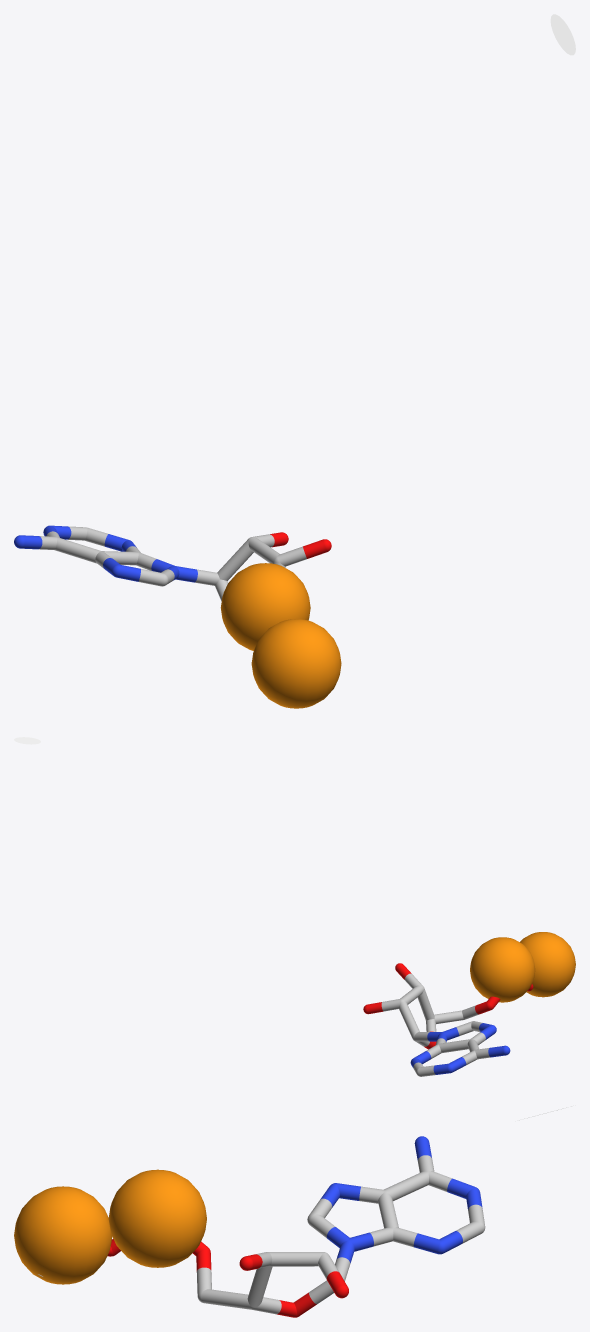
File: ADP.fbx
3 renders of one model, top to bottom at view 1: azimuth 30°, elevation 25°; view 2: azimuth 150°, elevation 25°; view 3: azimuth 270°, elevation 25°, orthographic. The views are drawn at different scales.
Visible parts, largest first — view 1: Sphere, Sphere_2; view 2: Sphere_2, Sphere; view 3: Sphere_2, Sphere, Cylinder_13, Cylinder_8, Cylinder_21, Cylinder_10, Cylinder_22, Cylinder_46, Cylinder_7, Cylinder_11, Cylinder_27, Cylinder_26 (+12 smaller).
Part boxes in pixels (left/top/right/bottom): Sphere: left=251, top=619, right=341, bottom=708; Sphere_2: left=220, top=563, right=310, bottom=650; Sphere_2: left=470, top=937, right=535, bottom=1002; Sphere: left=520, top=932, right=575, bottom=997; Sphere_2: left=108, top=1169, right=206, bottom=1267; Sphere: left=14, top=1186, right=112, bottom=1284; Cylinder_13: left=268, top=1252, right=322, bottom=1266; Cylinder_8: left=201, top=1289, right=251, bottom=1309; Cylinder_21: left=384, top=1171, right=428, bottom=1201; Cylinder_10: left=247, top=1266, right=272, bottom=1307; Cylinder_22: left=378, top=1192, right=398, bottom=1228; Cylinder_46: left=413, top=1233, right=440, bottom=1253; Cylinder_7: left=196, top=1267, right=211, bottom=1294; Cylinder_11: left=309, top=1280, right=334, bottom=1304; Cylinder_27: left=393, top=1227, right=417, bottom=1247; Cylinder_26: left=456, top=1221, right=482, bottom=1243.
Size of the model in its own units: 21.1 by 13.52 by 15.32.
